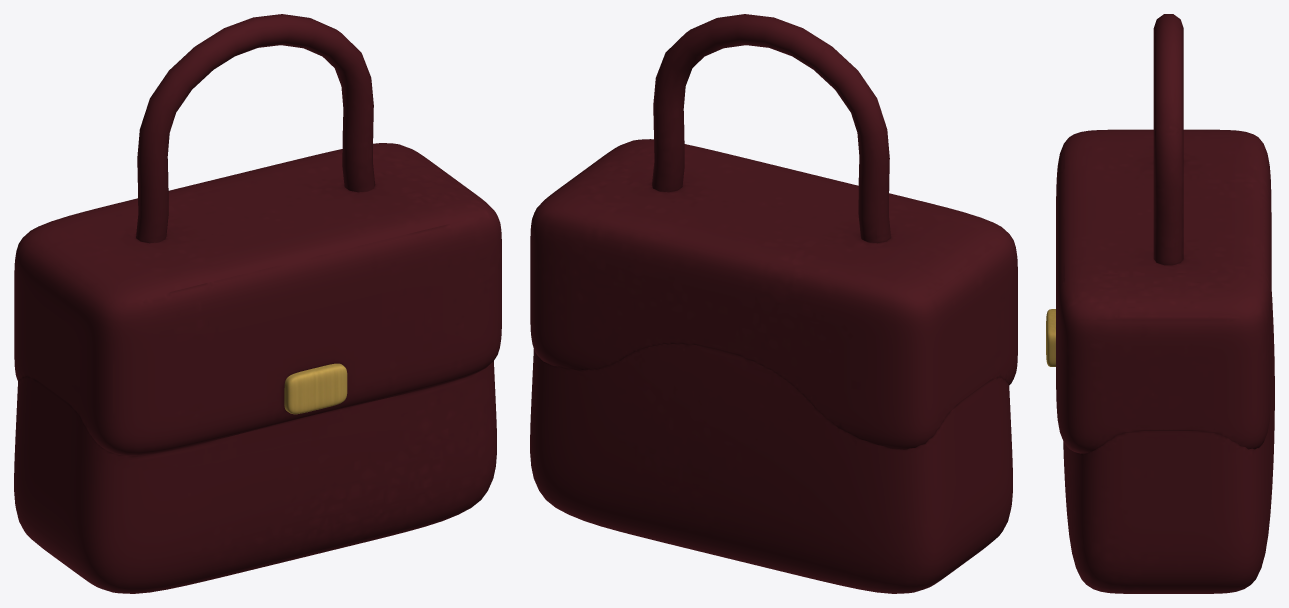
File: flap-burgundy.glb
3 views of the same model, side by side, from view 1: azimuth 30°, elevation 25°; view 2: azimuth 150°, elevation 25°; view 3: azimuth 270°, elevation 25° (orthographic). The views are drawn at different scales.
Parts seen in each view (by area): view 1: leather_primary, gold_hw; view 2: leather_primary; view 3: leather_primary, gold_hw.
Part boxes in pixels (box(x1,y1,x2,y2)): leather_primary: box(14, 14, 501, 593); gold_hw: box(284, 363, 347, 414); leather_primary: box(530, 14, 1017, 593); leather_primary: box(1056, 14, 1274, 593); gold_hw: box(1046, 309, 1055, 366).
Size of the model in its own units: 0.2756 by 0.3271 by 0.1381.
Materials: 2 (2 with a texture image).
